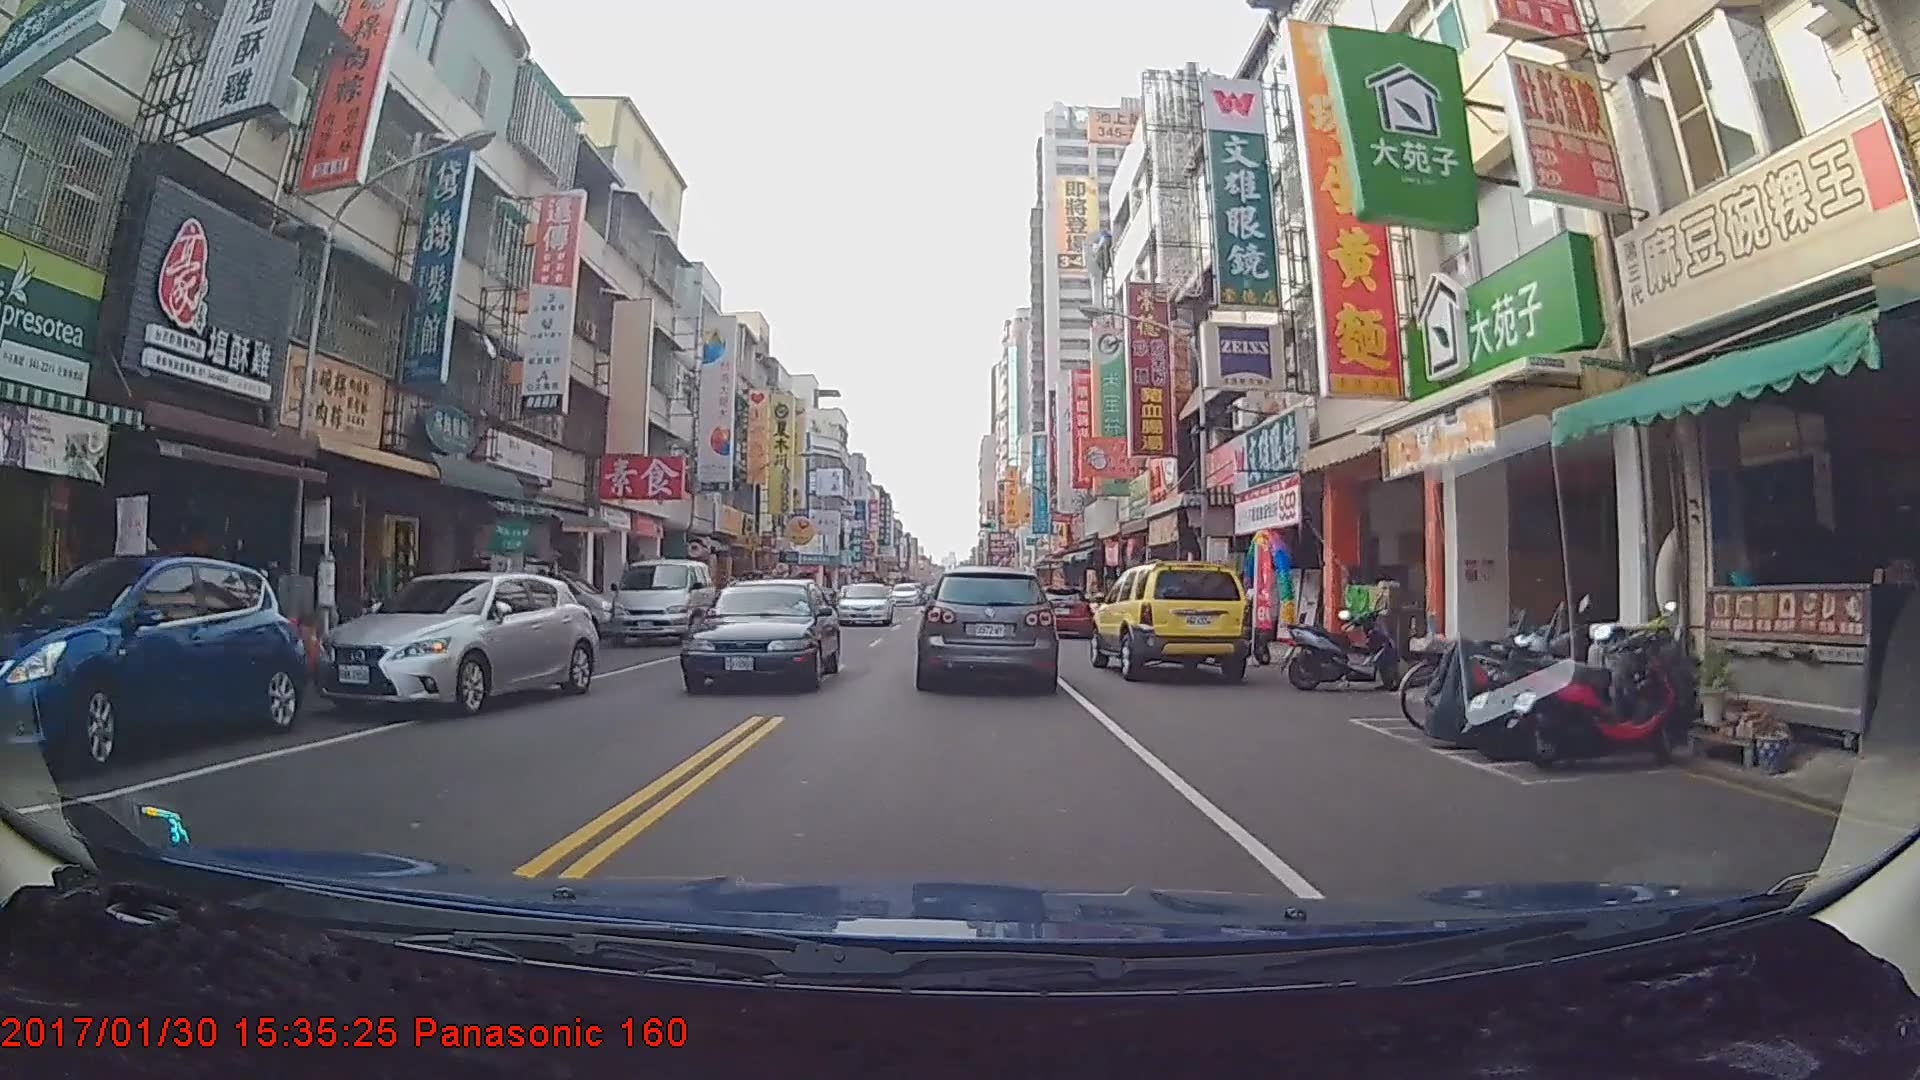vehicle: (0, 551, 306, 767), (306, 566, 599, 713), (1092, 555, 1253, 679), (676, 575, 840, 695), (916, 564, 1056, 691), (608, 558, 713, 644), (1027, 584, 1092, 637), (833, 583, 891, 629), (891, 583, 919, 607)
